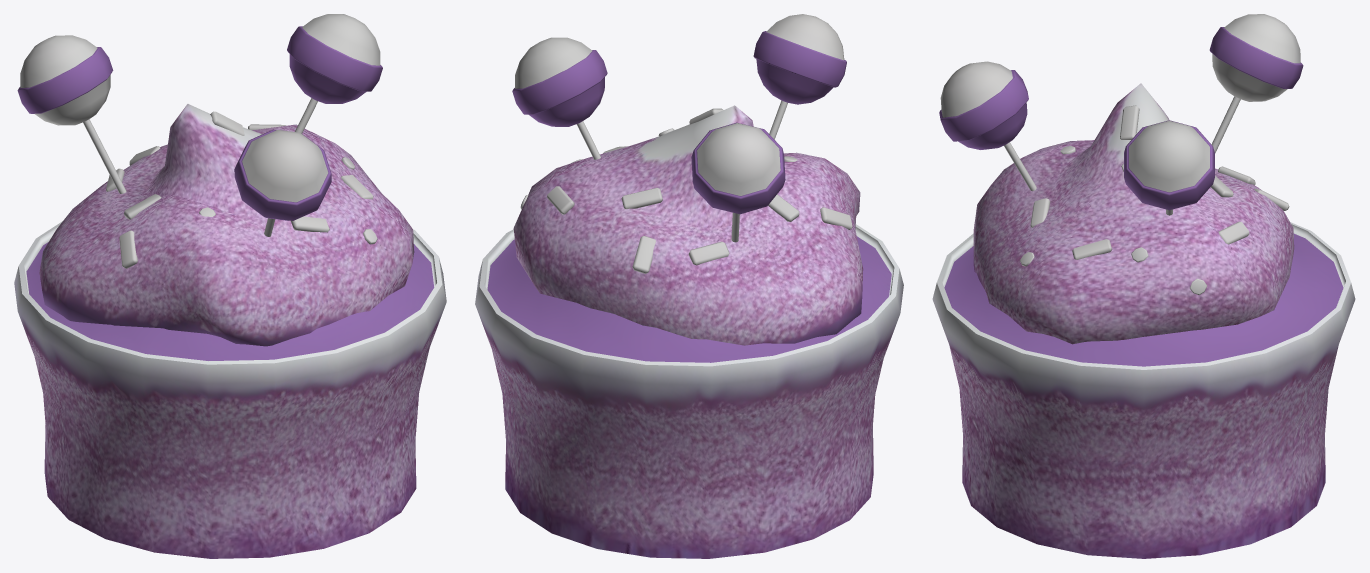
3 views of the same model, side by side, from view 1: azimuth 30°, elevation 25°; view 2: azimuth 150°, elevation 25°; view 3: azimuth 270°, elevation 25° (orthographic). The views are drawn at different scales.
Parts seen in each view (by area): view 1: 511aa069fb8f4e759de014e569b22a05; view 2: 511aa069fb8f4e759de014e569b22a05; view 3: 511aa069fb8f4e759de014e569b22a05.
Part boxes in pixels (left/top/right/bottom): 511aa069fb8f4e759de014e569b22a05: left=14, top=14, right=446, bottom=558; 511aa069fb8f4e759de014e569b22a05: left=475, top=14, right=903, bottom=558; 511aa069fb8f4e759de014e569b22a05: left=932, top=14, right=1355, bottom=558.
Bounding box in the file's own units: 0.927 × 1 × 0.927.
1 material, 1 textured.
